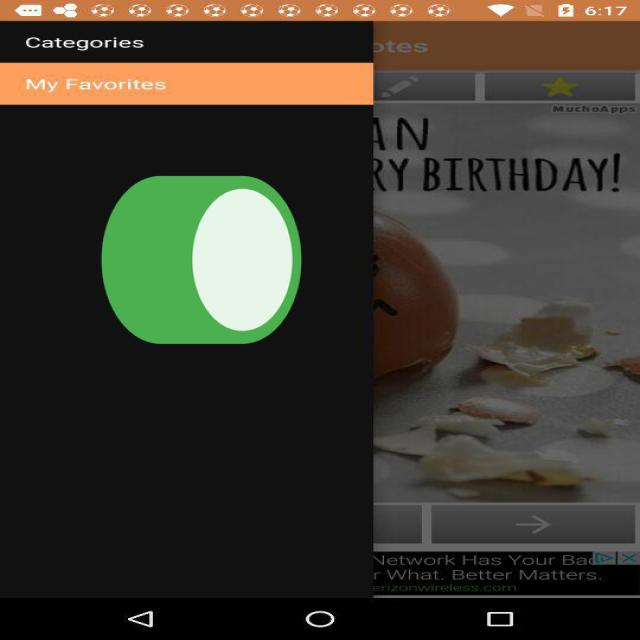social proof: (92, 111, 310, 422)
